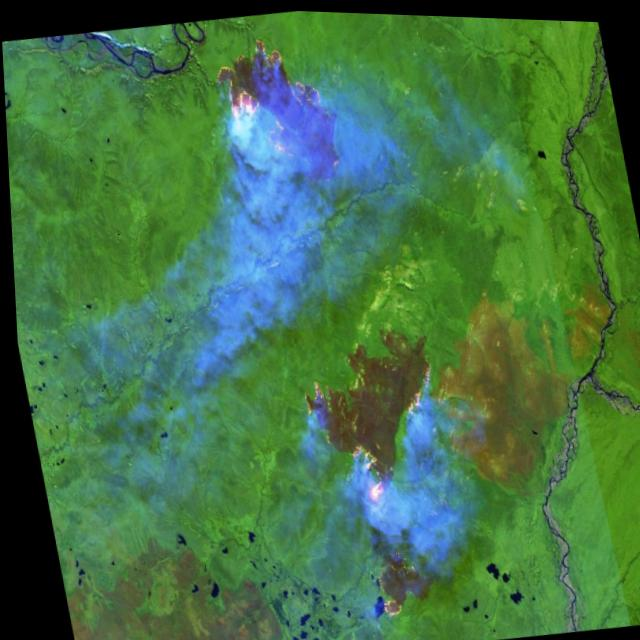fire: (293, 353, 455, 516), (204, 20, 349, 195), (355, 533, 420, 624)
